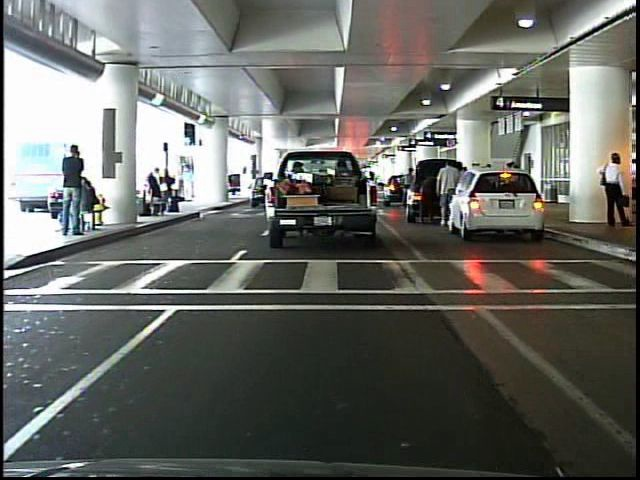person: (60, 139, 93, 238), (596, 145, 633, 232), (434, 158, 462, 230), (180, 162, 197, 204)
